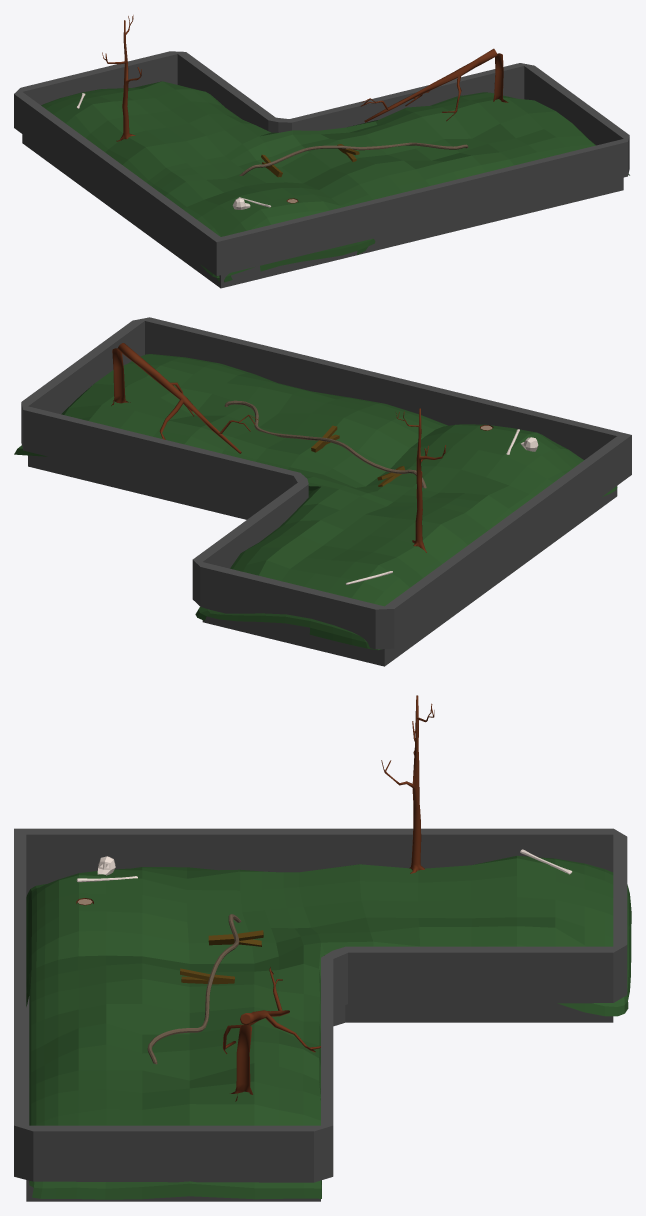
Rendered from Red_Panda_Level_0.fbx.
3 renders of one model, top to bottom at view 1: azimuth 30°, elevation 25°; view 2: azimuth 150°, elevation 25°; view 3: azimuth 270°, elevation 25°, orthographic. The views are drawn at different scales.
Parts seen in each view (by area): view 1: Ground.009; view 2: Ground.009; view 3: Ground.009.
Boxes of the visible parts, x1,y1,x2,y2 form: Ground.009: [14, 15, 629, 288]; Ground.009: [14, 317, 631, 666]; Ground.009: [14, 695, 631, 1201].
Bounding box in the file's own units: 3072 × 1129 × 2627.
